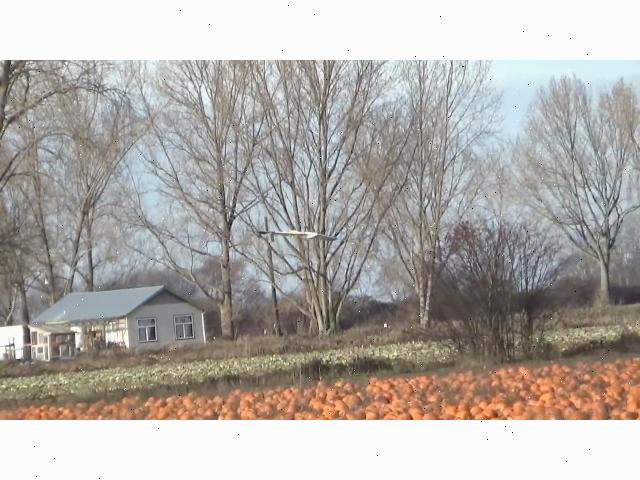Anti-Drone: (256, 230, 338, 242)
